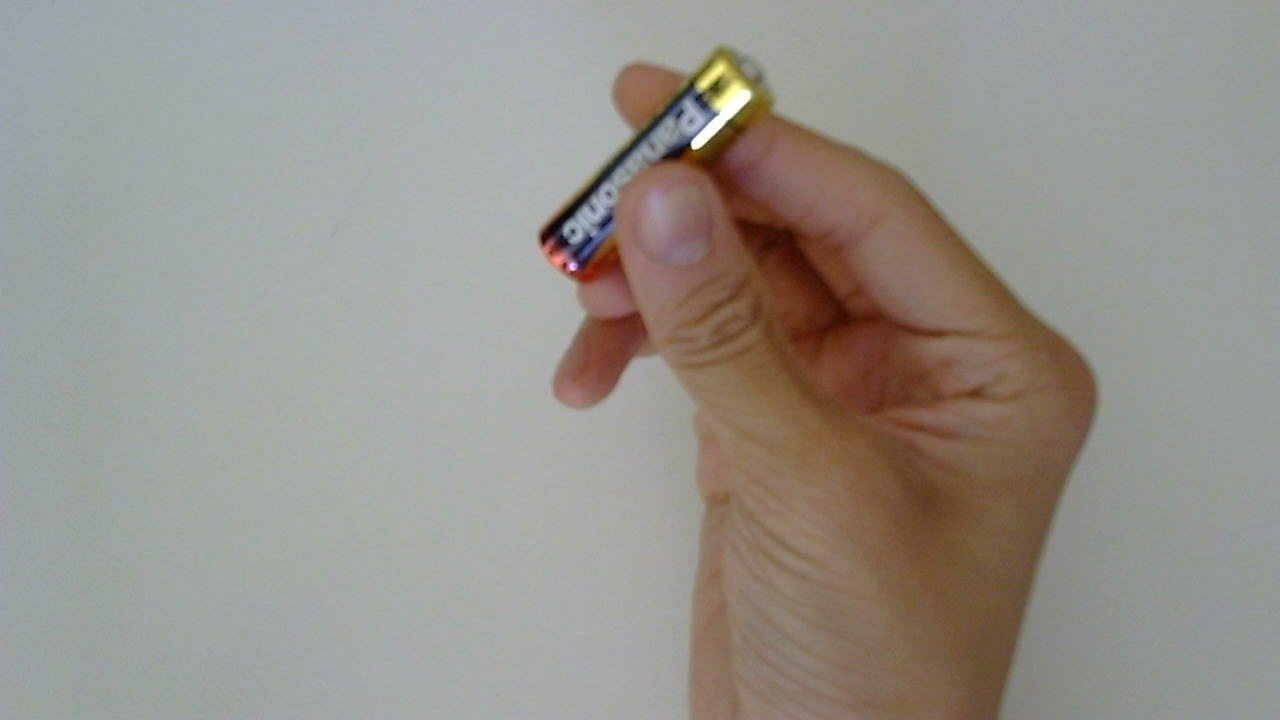Battery: (538, 54, 788, 297)
